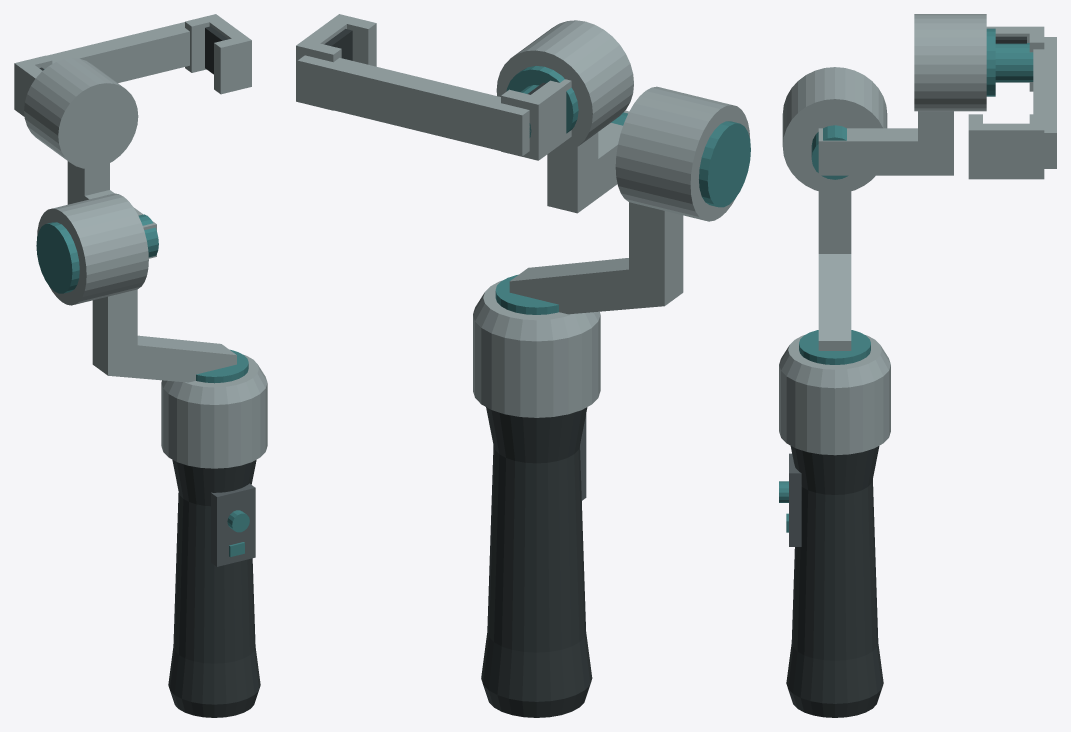
The picture shows the model from 3 angles, left to right: view 1: azimuth 30°, elevation 25°; view 2: azimuth 150°, elevation 25°; view 3: azimuth 270°, elevation 25°; orthographic projection. The views are drawn at different scales.
Parts seen in each view (by area): view 1: WholeGroundFootRoundedGrip, WholeForeAftAxisHousing, WholeVerticalAxisHousing, WholeTransverseAxisHousing, WholeContinuousFirstOffsetArm, WholeFullRearCradleCarrier, WholeOpposedOpenHookJaw_1, WholeBlankGripControlPanel, WholeProudTransverseAxisCap, WholeContinuousReturnedSecondArm, WholeOpposedOpenHookJaw_0, WholeProudUpperAxisCap (+2 smaller); view 2: WholeGroundFootRoundedGrip, WholeVerticalAxisHousing, WholeFullRearCradleCarrier, WholeTransverseAxisHousing, WholeContinuousFirstOffsetArm, WholeForeAftAxisHousing, WholeContinuousReturnedSecondArm, WholeProudTransverseAxisCap, WholeOpposedOpenHookJaw_0, WholeOpposedOpenHookJaw_1, WholeRearProudFinalAxisCap, WholeProudUpperAxisCap; view 3: WholeGroundFootRoundedGrip, WholeVerticalAxisHousing, WholeTransverseAxisHousing, WholeForeAftAxisHousing, WholeContinuousReturnedSecondArm, WholeContinuousFirstOffsetArm, WholeOpposedOpenHookJaw_1, WholeFullRearCradleCarrier, WholeFinalCarrierConnectingStub, WholeProudUpperAxisCap, WholeBlankGripControlPanel, WholeOpposedOpenHookJaw_0 (+2 smaller).
Boxes of the visible parts, x1,y1,x2,y2 form: WholeGroundFootRoundedGrip: (168,460,260,717); WholeForeAftAxisHousing: (24,58,138,168); WholeVerticalAxisHousing: (161,354,267,468); WholeTransverseAxisHousing: (37,193,148,305); WholeContinuousFirstOffsetArm: (92,289,236,382); WholeFullRearCradleCarrier: (46,22,189,82); WholeOpposedOpenHookJaw_1: (185,14,251,94); WholeBlankGripControlPanel: (211,483,255,566); WholeProudTransverseAxisCap: (36,222,79,293); WholeContinuousReturnedSecondArm: (67,161,156,258); WholeOpposedOpenHookJaw_0: (14,55,52,116); WholeProudUpperAxisCap: (196,349,248,383); WholeGroundFootRoundedGrip: (481,407,592,717); WholeVerticalAxisHousing: (473,280,600,417); WholeFullRearCradleCarrier: (297,55,529,156); WholeTransverseAxisHousing: (615,86,750,221); WholeContinuousFirstOffsetArm: (509,202,683,314); WholeForeAftAxisHousing: (496,20,633,153); WholeContinuousReturnedSecondArm: (547,110,628,213); WholeProudTransverseAxisCap: (699,121,750,207); WholeOpposedOpenHookJaw_0: (501,79,571,160); WholeOpposedOpenHookJaw_1: (296,14,376,110); WholeRearProudFinalAxisCap: (506,66,578,133); WholeProudUpperAxisCap: (495,274,558,314); WholeGroundFootRoundedGrip: (786,446,883,717); WholeVerticalAxisHousing: (779,335,890,455); WholeTransverseAxisHousing: (782,67,887,190); WholeForeAftAxisHousing: (914,14,986,111); WholeContinuousReturnedSecondArm: (818,111,953,175); WholeContinuousFirstOffsetArm: (818,175,851,350); WholeOpposedOpenHookJaw_1: (968,114,1044,179); WholeFullRearCradleCarrier: (1033,37,1056,168); WholeFinalCarrierConnectingStub: (995,43,1033,82); WholeProudUpperAxisCap: (799,330,870,364); WholeBlankGripControlPanel: (789,453,801,546); WholeOpposedOpenHookJaw_0: (986,26,1044,91).
Bounding box in the file's own units: 0.176 × 0.392 × 0.154.
